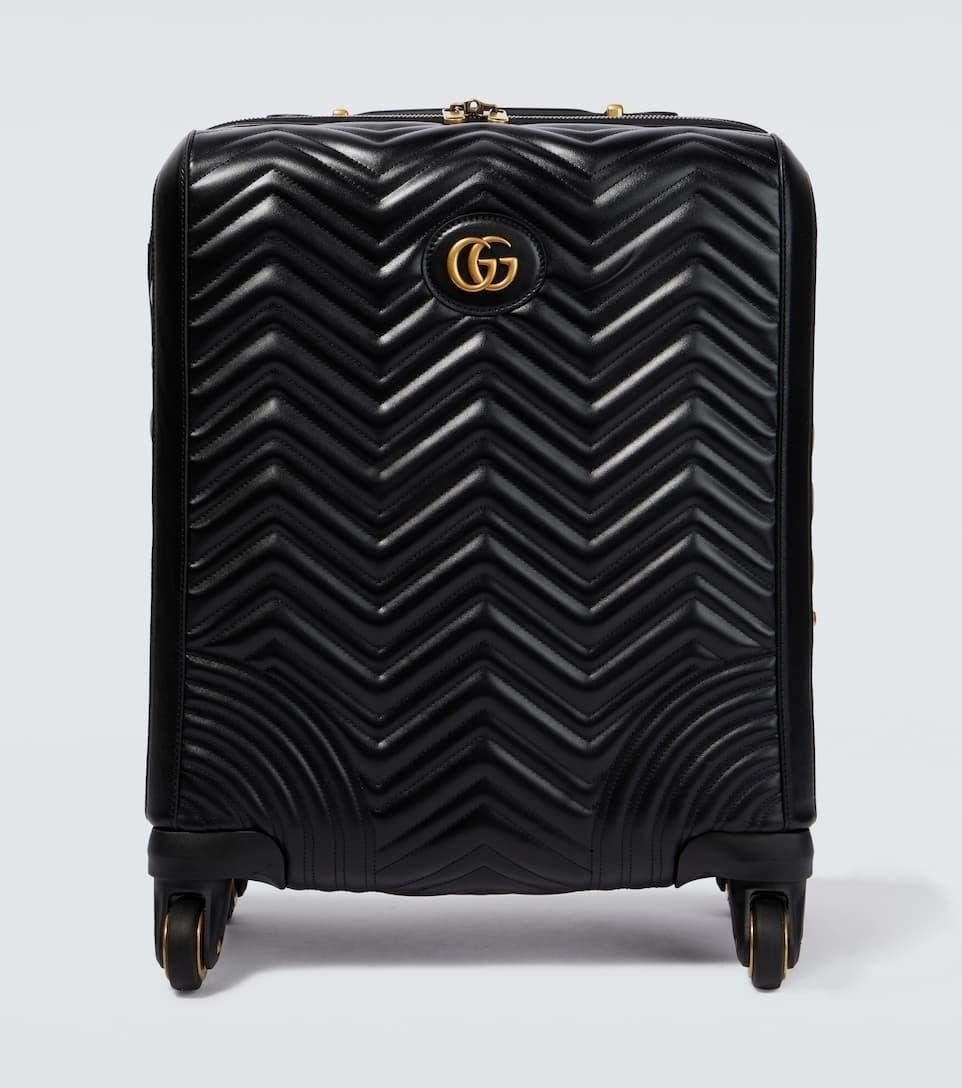GUCCI: (446, 235, 518, 293)
